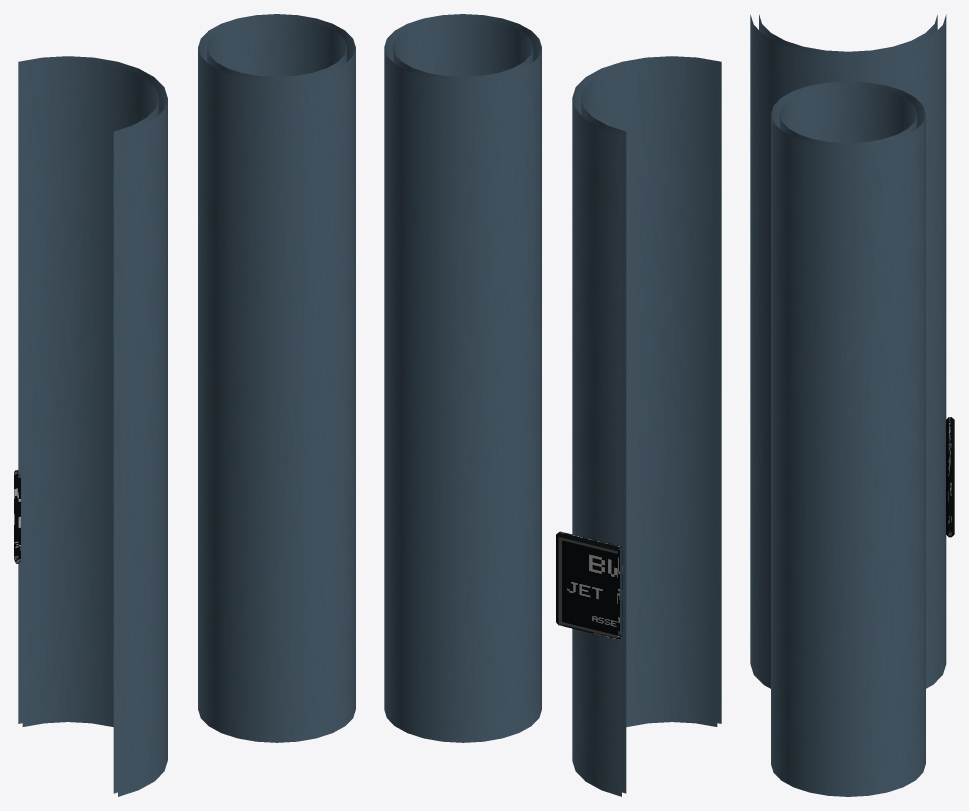
The model's file is cell_7.obj.
The picture shows the model from 3 angles, left to right: view 1: azimuth 30°, elevation 25°; view 2: azimuth 150°, elevation 25°; view 3: azimuth 270°, elevation 25°; orthographic projection.
Parts seen in each view (by area): view 1: cell_7; view 2: cell_7; view 3: cell_7.
Boxes of the visible parts, x1=… form: cell_7: x1=14, y1=14, x2=355, y2=796; cell_7: x1=384, y1=14, x2=721, y2=796; cell_7: x1=750, y1=14, x2=954, y2=796.
Size of the model in its own units: 0.438 by 1 by 0.2845.
